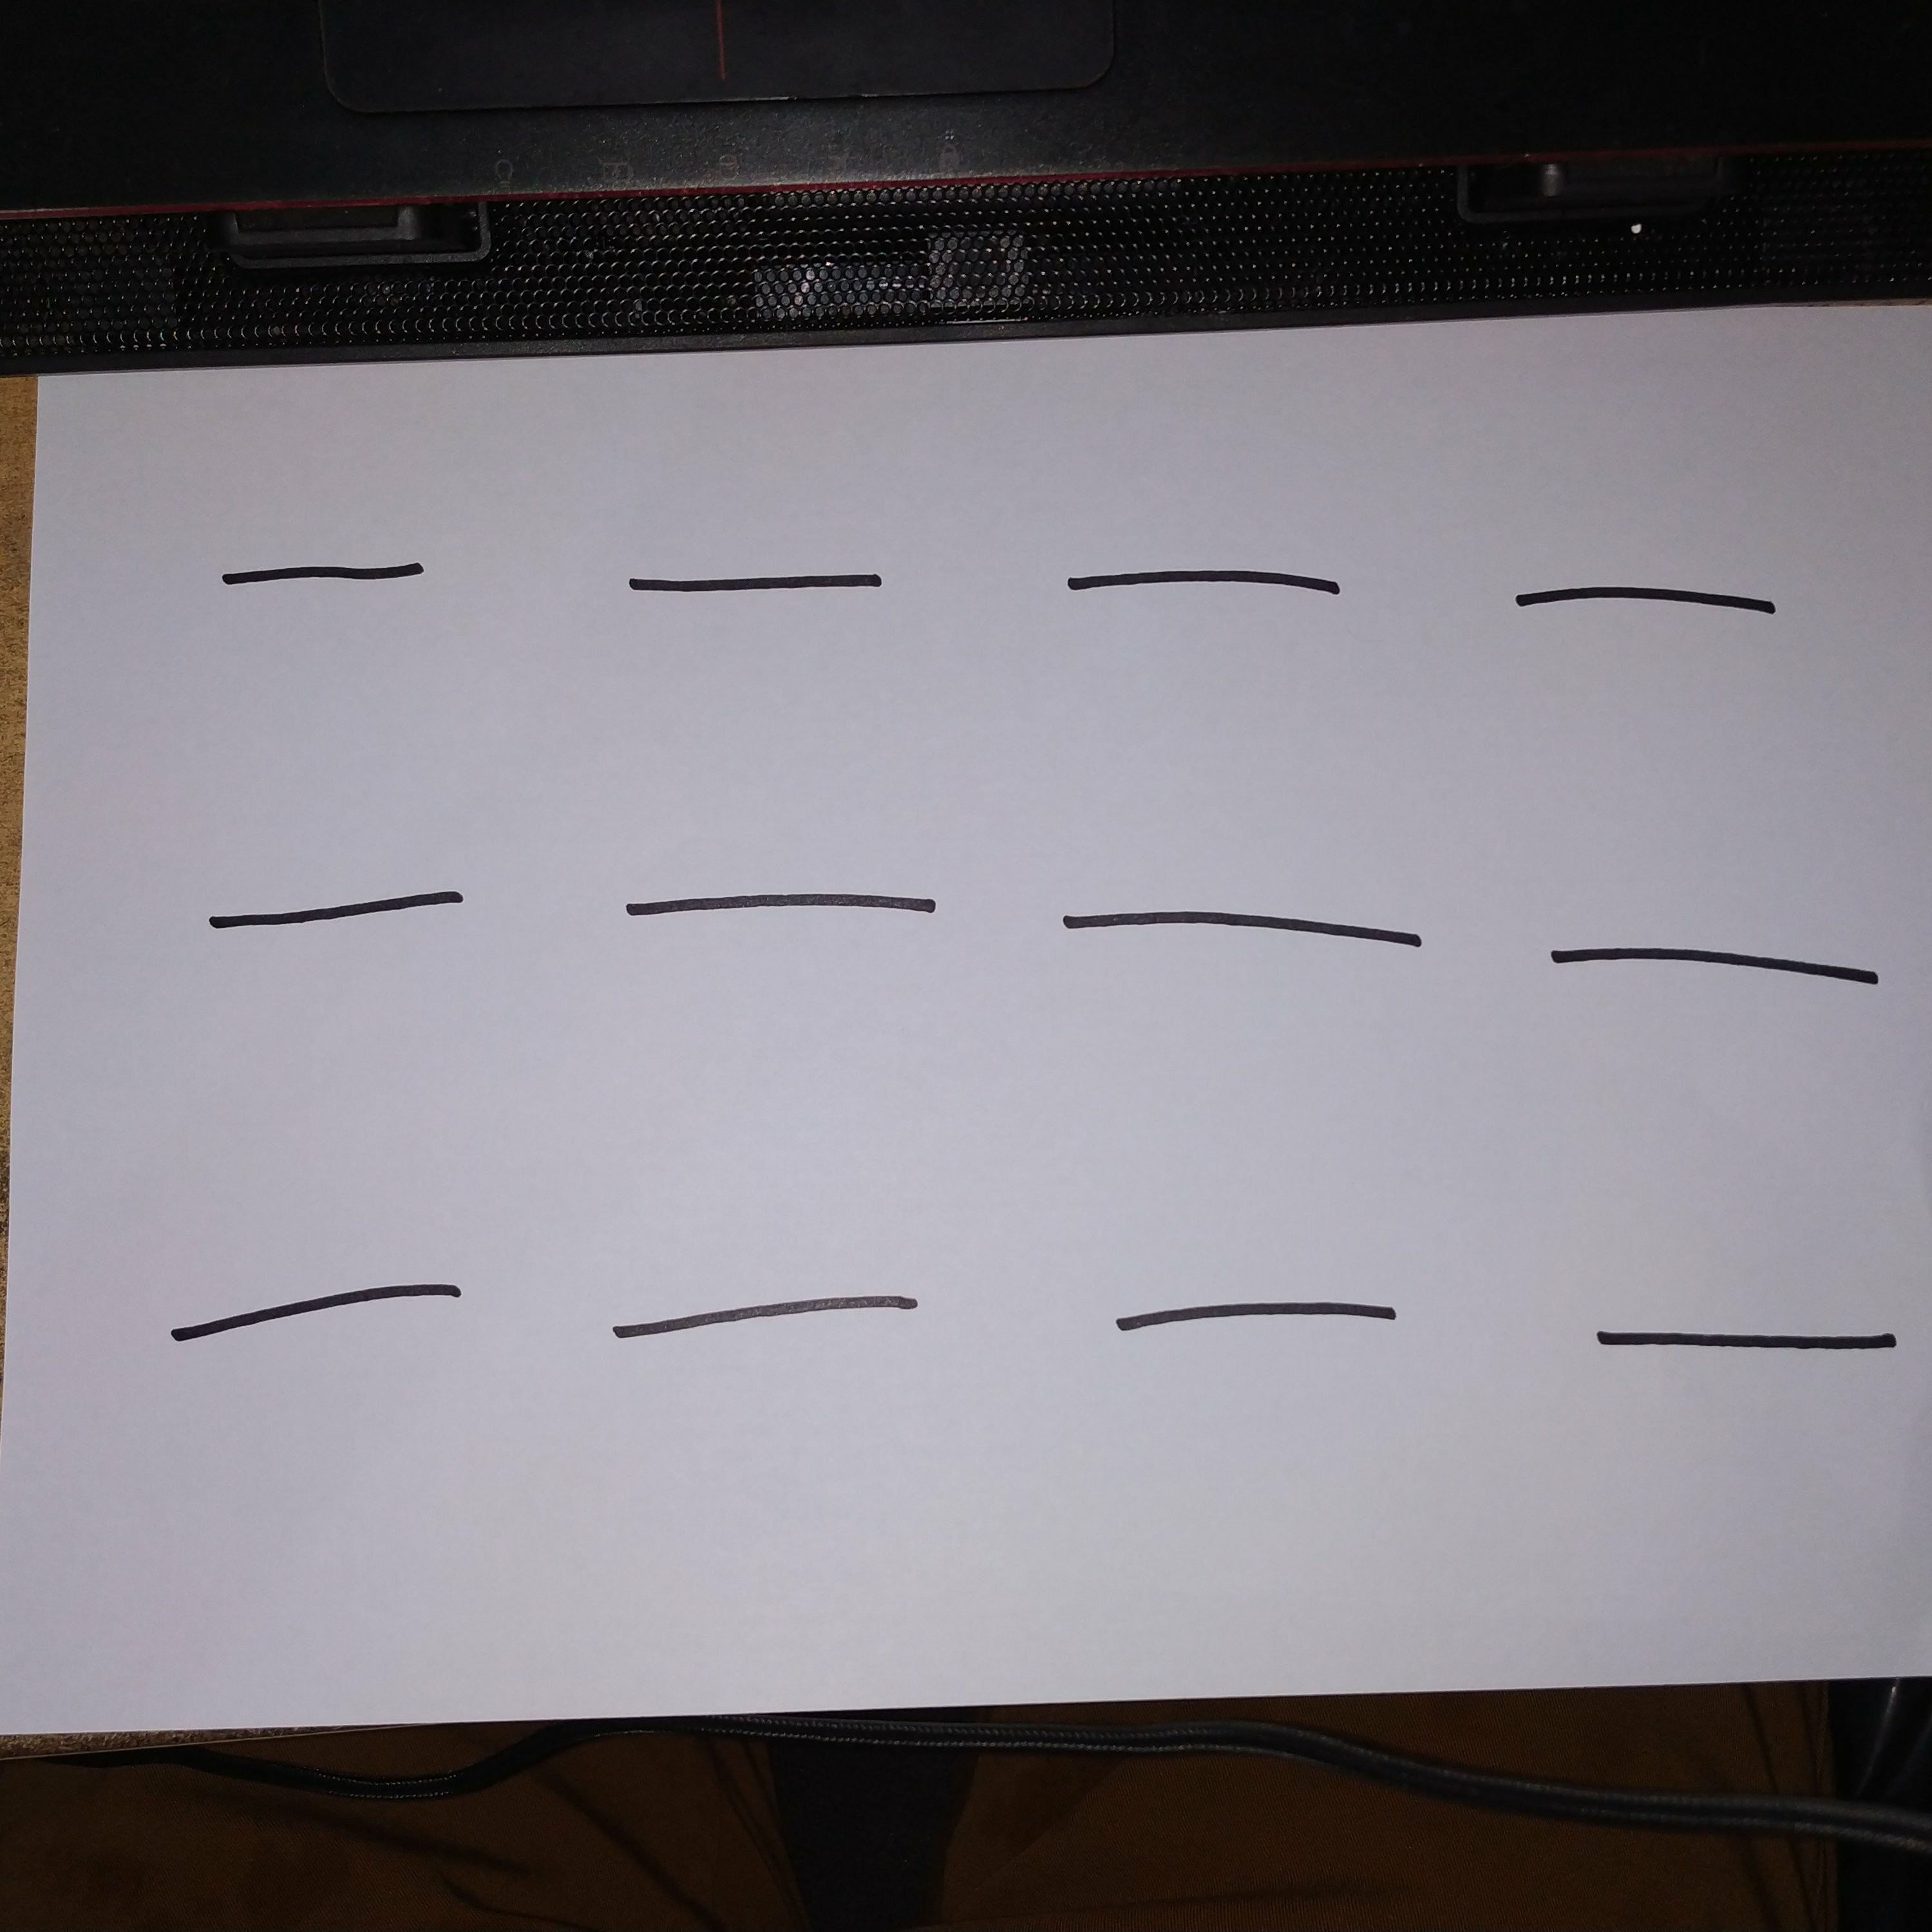min: (1516, 911, 1910, 1036), (1042, 880, 1479, 983), (1499, 538, 1815, 655), (1573, 1297, 1932, 1398), (138, 1266, 497, 1363), (1046, 542, 1383, 624), (583, 1278, 950, 1354), (1079, 1280, 1444, 1354), (601, 884, 991, 944), (167, 866, 491, 938), (605, 548, 911, 614), (191, 542, 468, 612)
